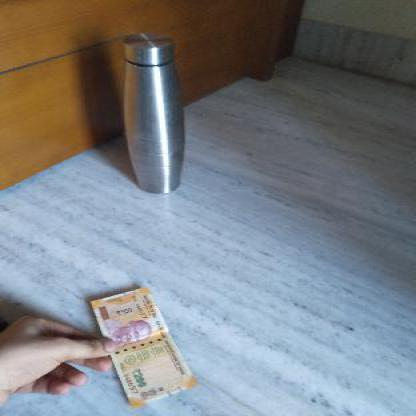New200Front: (88, 291, 197, 404)
